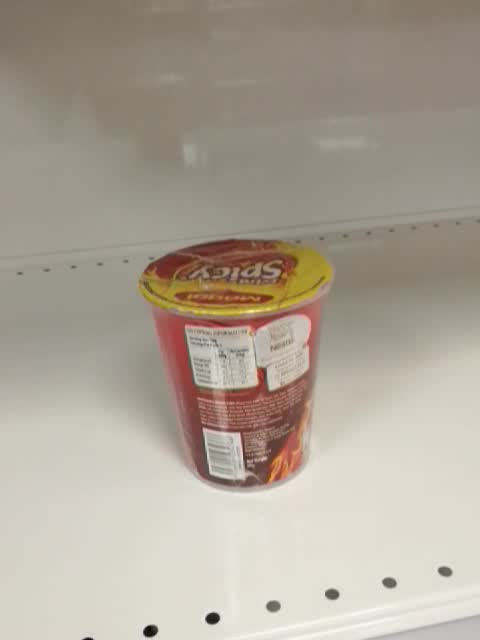maggi: (136, 239, 336, 492)
